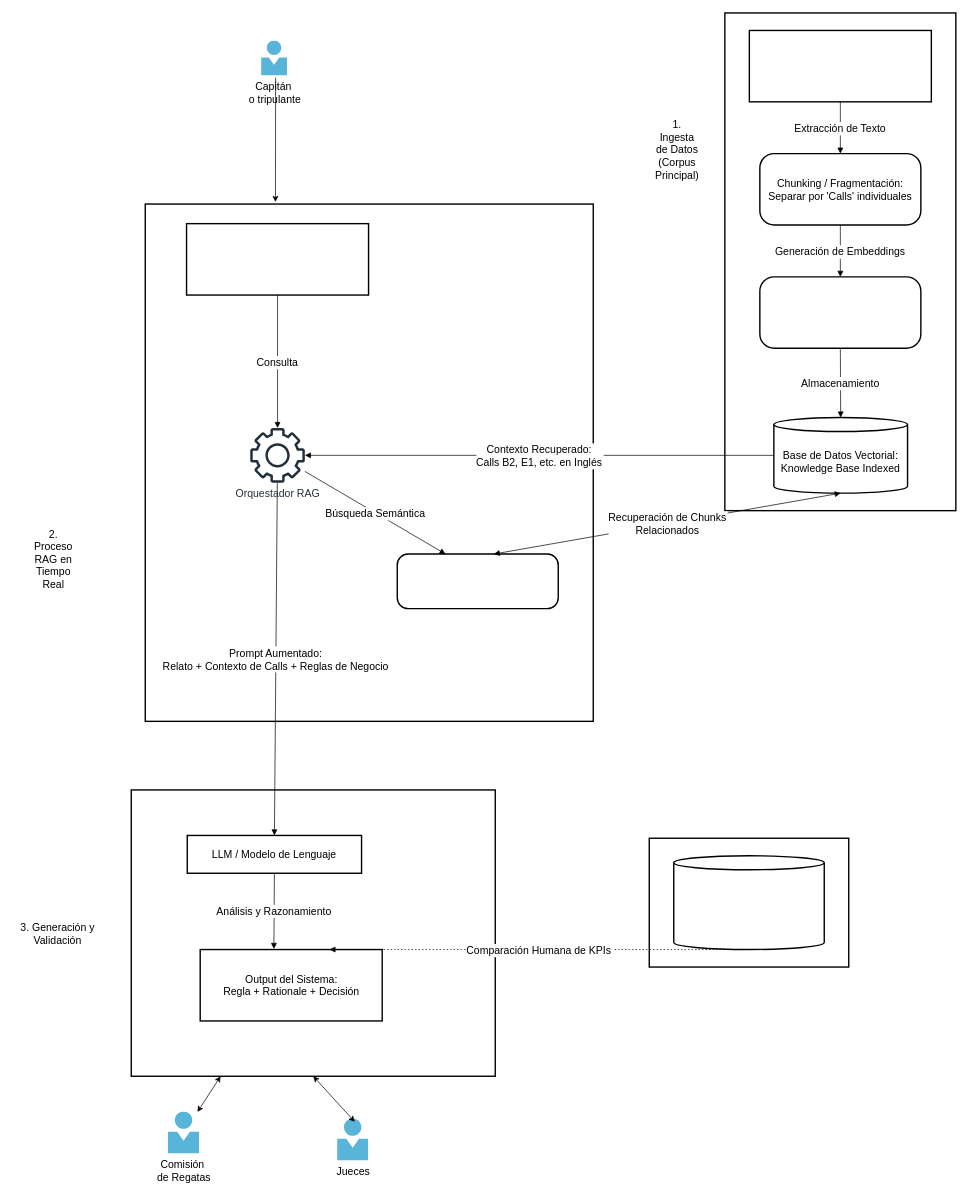
This 968x1196 diagram has some shape labels left out. Each missing label, with the centre of its shape:
"Documento Fuente: Call Book for Team Racing .pdf" goes at pixel 840 65.
"Generar Embedding de Consulta" goes at pixel 477 581.
"Ground Truth: 15 Ejemplos Reales Basados en Case Book" goes at pixel 749 902.
"Input Usuario: Relato de Incidente en Español" goes at pixel 277 259.
"Modelo de Embeddings: Traducción Semántica a Vectores" goes at pixel 840 312.
